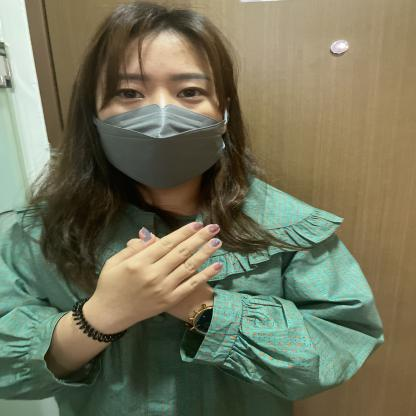Grieve: (29, 199, 302, 365)
